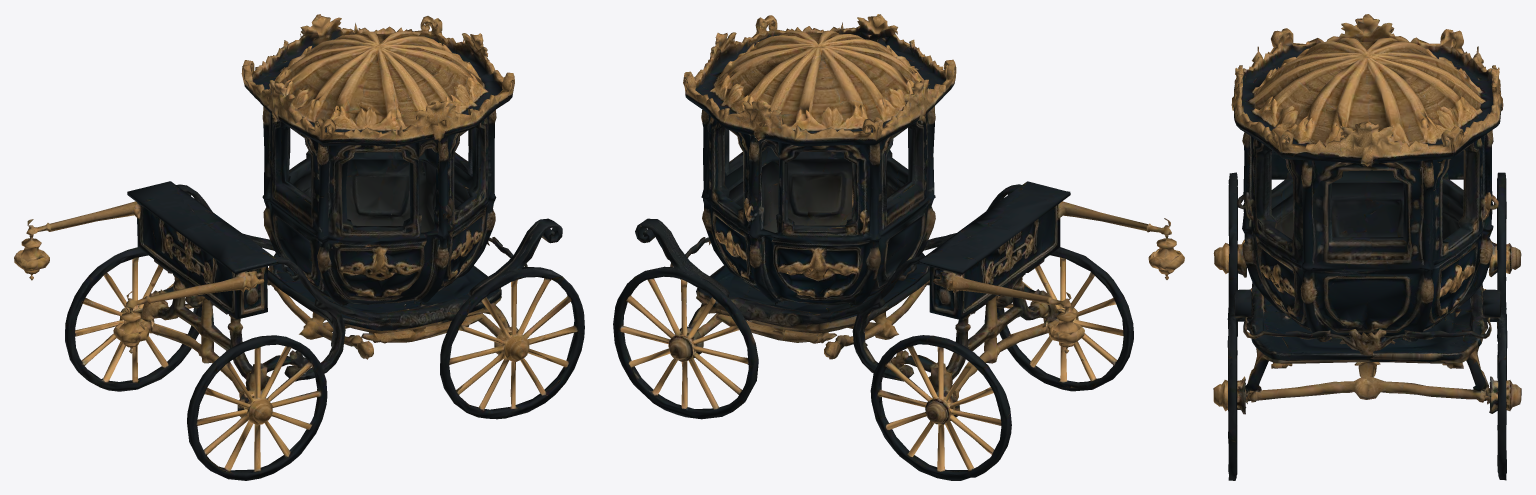
Rendered from carriage.glb.
3 renders of one model, left to right at view 1: azimuth 30°, elevation 25°; view 2: azimuth 150°, elevation 25°; view 3: azimuth 270°, elevation 25°, orthographic. The views are drawn at different scales.
Bounding box in the file's own units: 1.9 × 1.37 × 1.01.
1 material, 1 textured.
